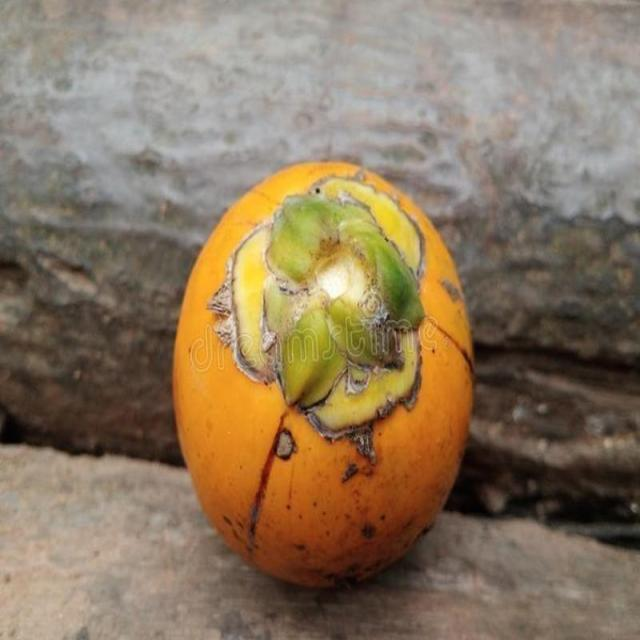good: (171, 162, 475, 592)
